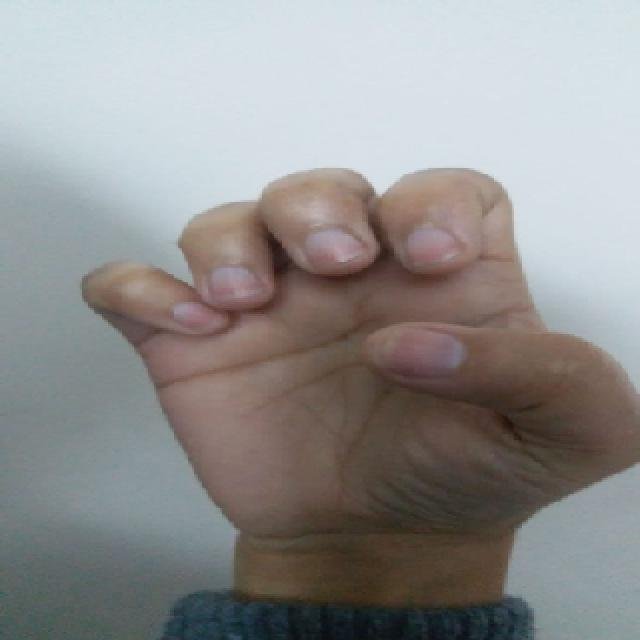Nail: (377, 322, 468, 377), (401, 225, 463, 269), (302, 229, 362, 268), (172, 301, 228, 332), (211, 268, 263, 299)
